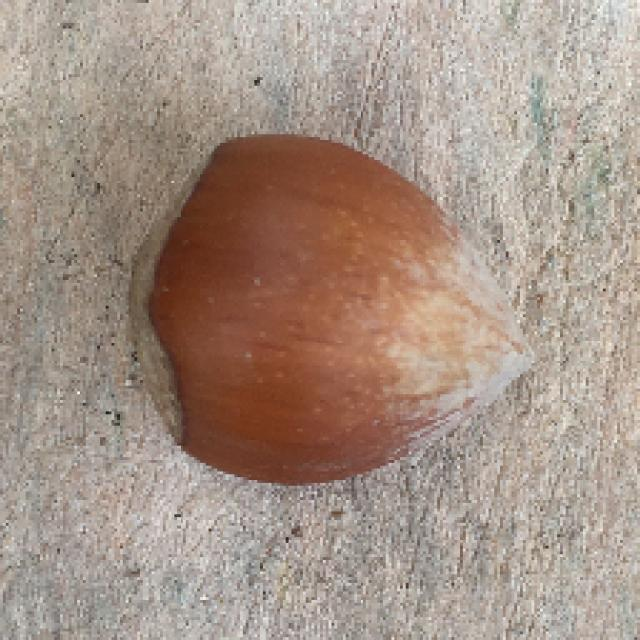qualityHazelnut: (130, 128, 537, 503)
